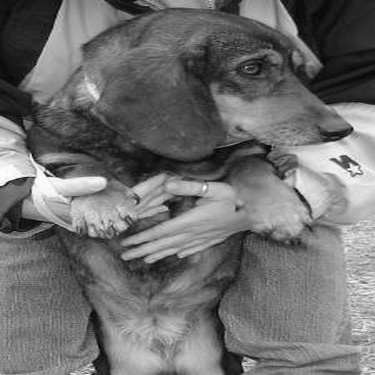dog: (27, 5, 355, 369)
